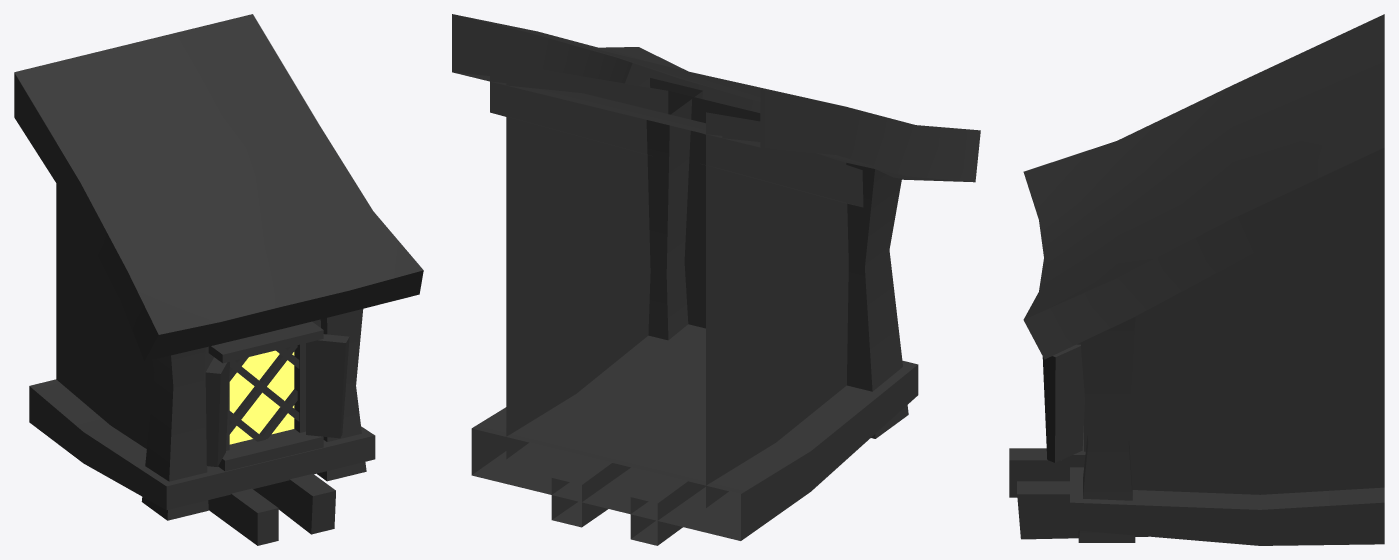
File: SM_BLD_window_v02_01.FBX
3 renders of one model, left to right at view 1: azimuth 30°, elevation 25°; view 2: azimuth 150°, elevation 25°; view 3: azimuth 270°, elevation 25°, orthographic. The views are drawn at different scales.
Visible parts, largest first — view 1: SM_BLD_window_v02_01; view 2: SM_BLD_window_v02_01; view 3: SM_BLD_window_v02_01.
Part boxes in pixels (bbox=[...]): SM_BLD_window_v02_01: bbox=[14, 14, 423, 545]; SM_BLD_window_v02_01: bbox=[452, 14, 980, 545]; SM_BLD_window_v02_01: bbox=[1009, 14, 1384, 545].
Bounding box in the file's own units: 215 × 222 × 283.
